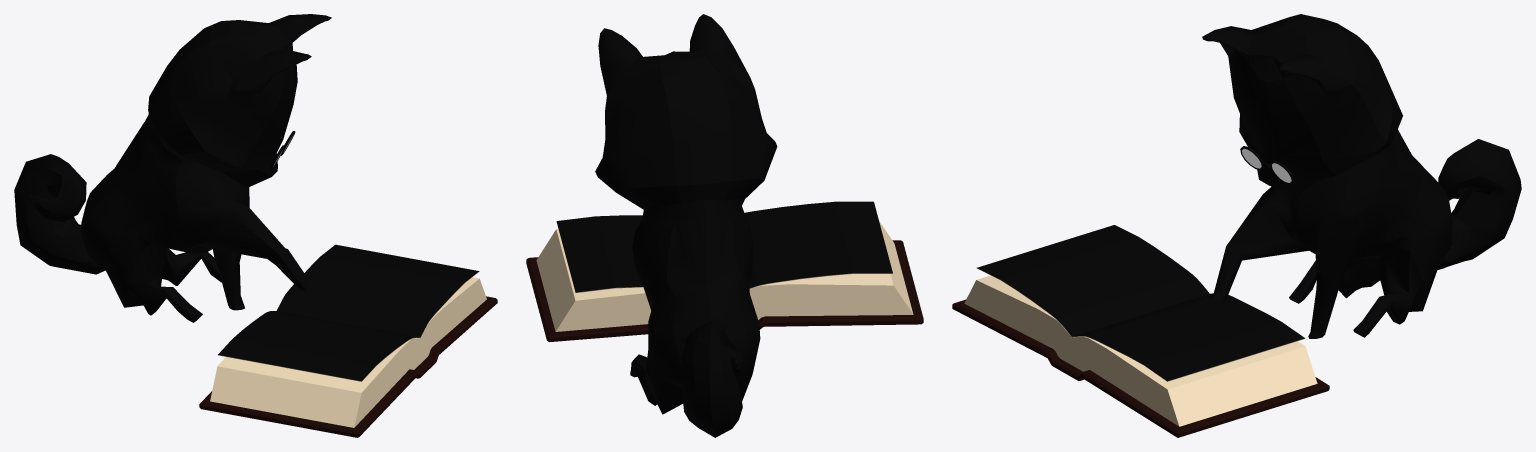
The model's file is book_Frame.obj.
3 views of the same model, side by side, from view 1: azimuth 30°, elevation 25°; view 2: azimuth 150°, elevation 25°; view 3: azimuth 270°, elevation 25° (orthographic). The views are drawn at different scales.
Visible parts, largest first — view 1: StidyGlasses_Computer_Sitting:Sitting:newRigging:BodzL1, pCube5; view 2: StidyGlasses_Computer_Sitting:Sitting:newRigging:BodzL1, pCube5; view 3: StidyGlasses_Computer_Sitting:Sitting:newRigging:BodzL1, pCube5, StidyGlasses_Computer_Sitting:StudyBrille:StudyBrille:pCylinder5.
Boxes of the visible parts, x1,y1,x2,y2 form: StidyGlasses_Computer_Sitting:Sitting:newRigging:BodzL1: (14,14,331,322); pCube5: (199,244,497,437); StidyGlasses_Computer_Sitting:Sitting:newRigging:BodzL1: (595,14,777,437); pCube5: (526,201,923,341); StidyGlasses_Computer_Sitting:Sitting:newRigging:BodzL1: (1202,14,1521,338); pCube5: (952,225,1329,437); StidyGlasses_Computer_Sitting:StudyBrille:StudyBrille:pCylinder5: (1240,146,1294,184).
Size of the model in its own units: 8.56 by 6.98 by 11.55.
